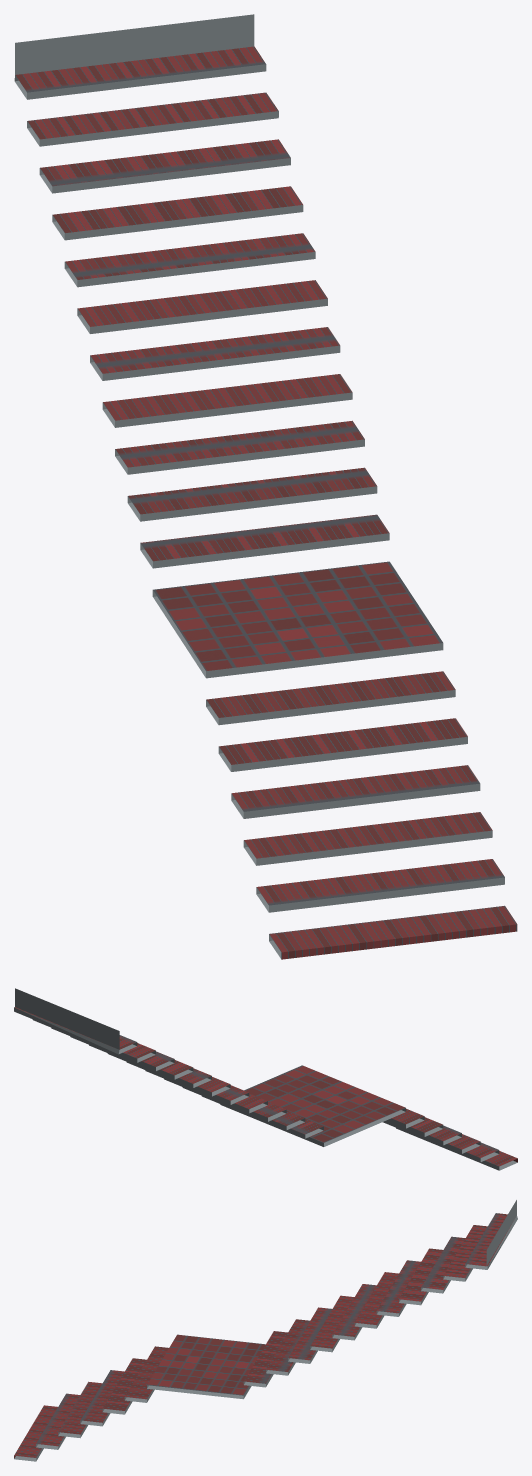
The model's file is escaleras_pasillo_2.glb.
3 renders of one model, top to bottom at view 1: azimuth 30°, elevation 25°; view 2: azimuth 150°, elevation 25°; view 3: azimuth 270°, elevation 25°, orthographic. The views are drawn at different scales.
Parts seen in each view (by area): view 1: escalon.005; view 2: escalon.005; view 3: escalon.005.
Boxes of the visible parts, left/top/right/bottom form: escalon.005: left=14, top=14, right=517, bottom=959; escalon.005: left=14, top=988, right=517, bottom=1170; escalon.005: left=14, top=1200, right=517, bottom=1461.
Size of the model in its own units: 15.59 by 18.63 by 32.71.
Materials: 2 (1 with a texture image).
